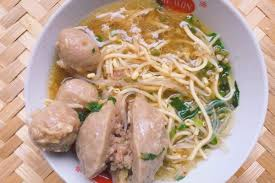bakso: (43, 24, 184, 180)
